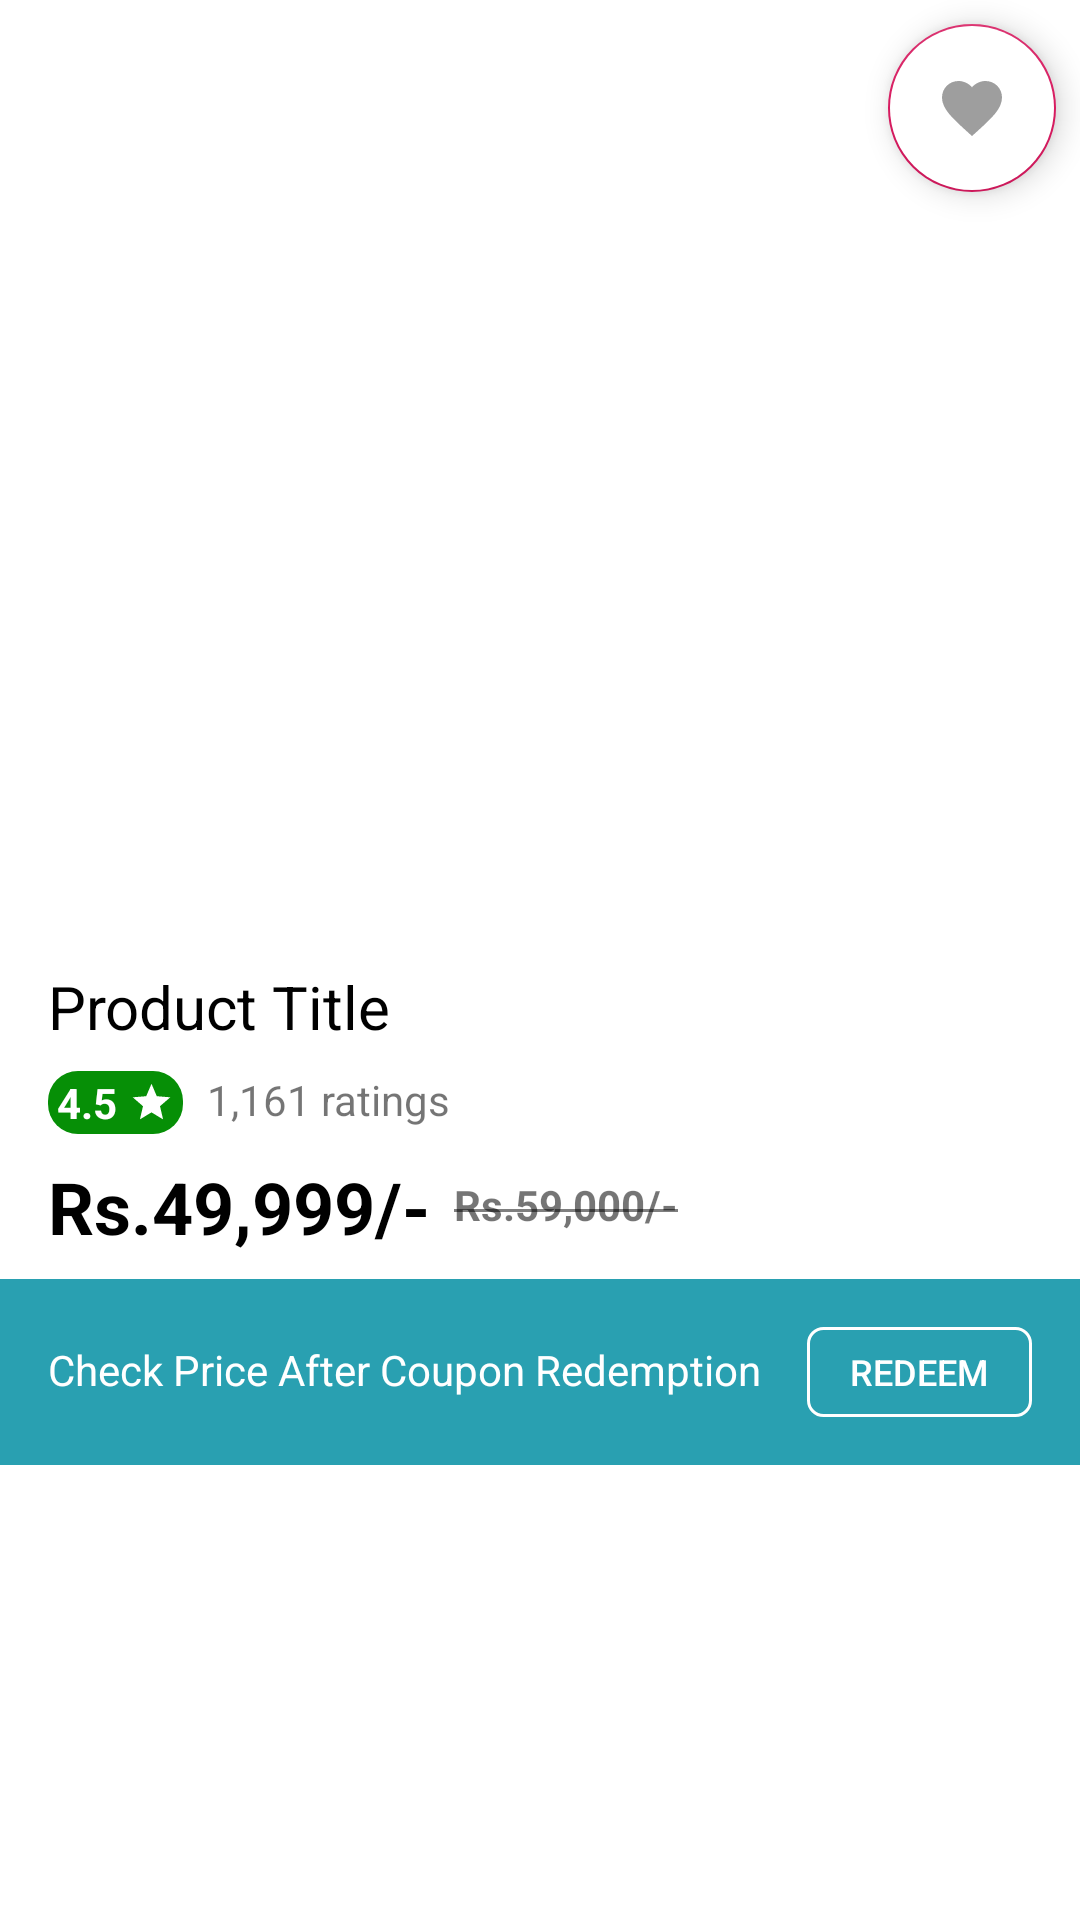

Locate icon controls on the screen. Image size 1080*1920, boxes as (x1, y1, x2, y2).
navwishlist: (888, 24, 1056, 192)
